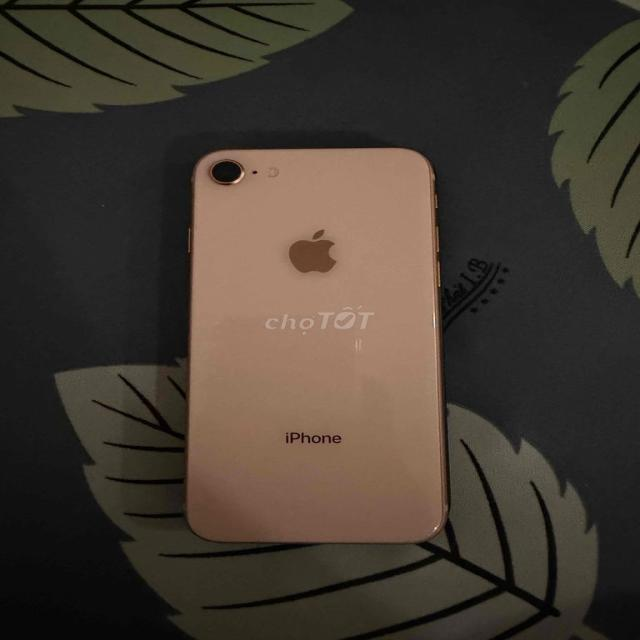scratch: (428, 278, 446, 404), (205, 157, 248, 186), (424, 514, 446, 534), (349, 333, 369, 353)
